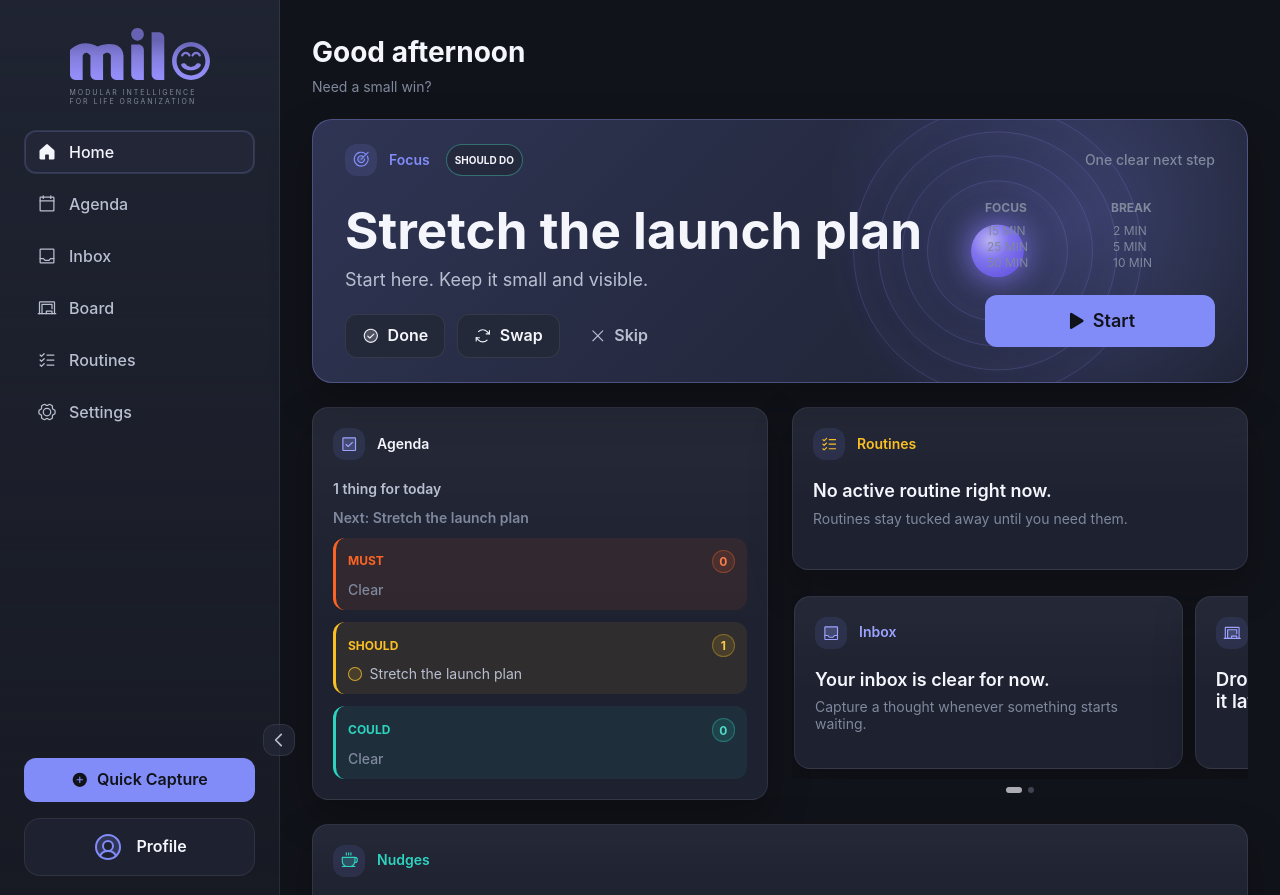
HomePage › renders and completes the recommended focus task
expect the heading "Stretch the launch plan" is shown: met, box [345,200,937,261]
Click the button "Done": (395, 336) [345,314,445,358]
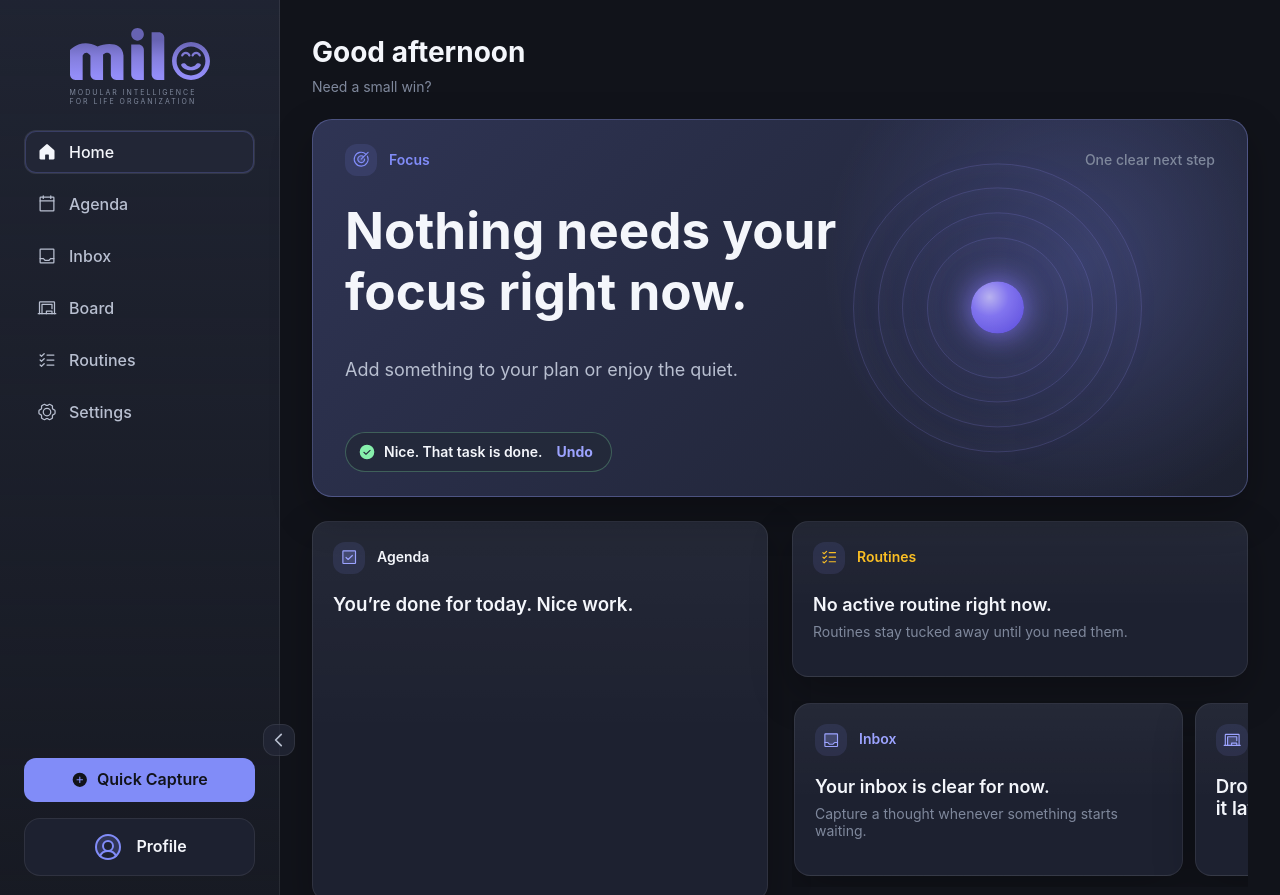
expect the heading "Nothing needs your focus right now." is shown: met, box [345,199,836,322]
